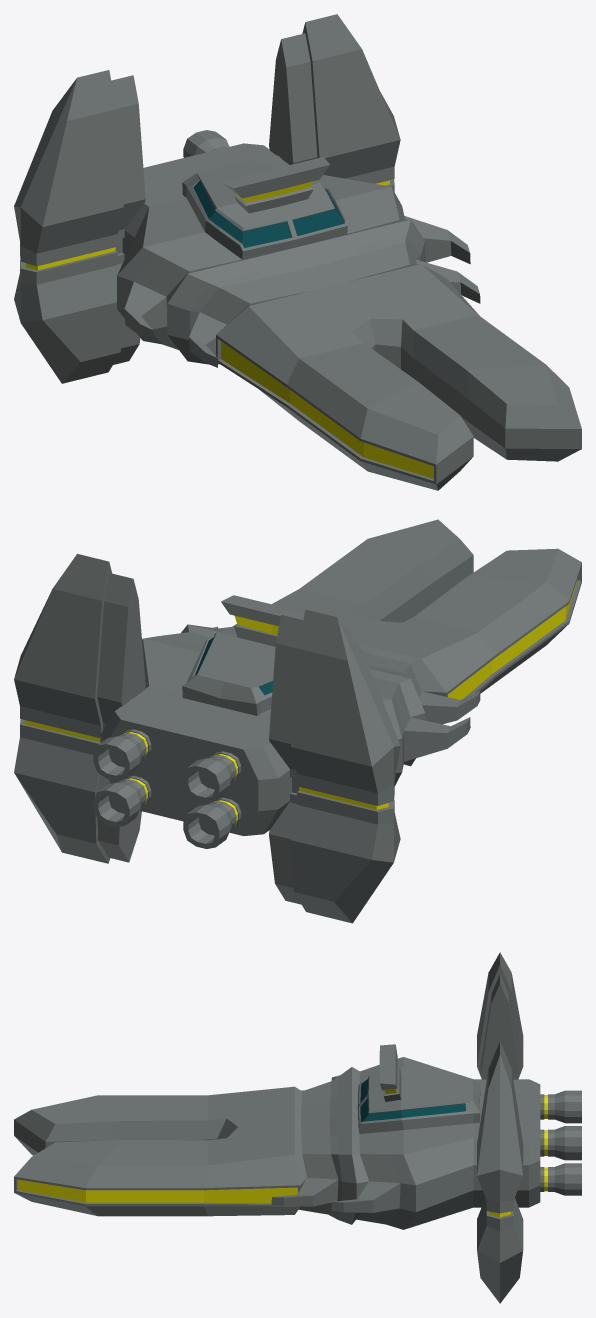
File: spaceship_10.fbx
The picture shows the model from 3 angles, top to bottom: view 1: azimuth 30°, elevation 25°; view 2: azimuth 150°, elevation 25°; view 3: azimuth 270°, elevation 25°; orthographic projection. The views are drawn at different scales.
Parts seen in each view (by area): view 1: spaceship.009; view 2: spaceship.009; view 3: spaceship.009.
Part boxes in pixels (<box>): spaceship.009: <box>14,14,581,490</box>; spaceship.009: <box>14,519,581,923</box>; spaceship.009: <box>14,952,581,1303</box>.
Size of the model in its own units: 2014 by 1560 by 3296.
